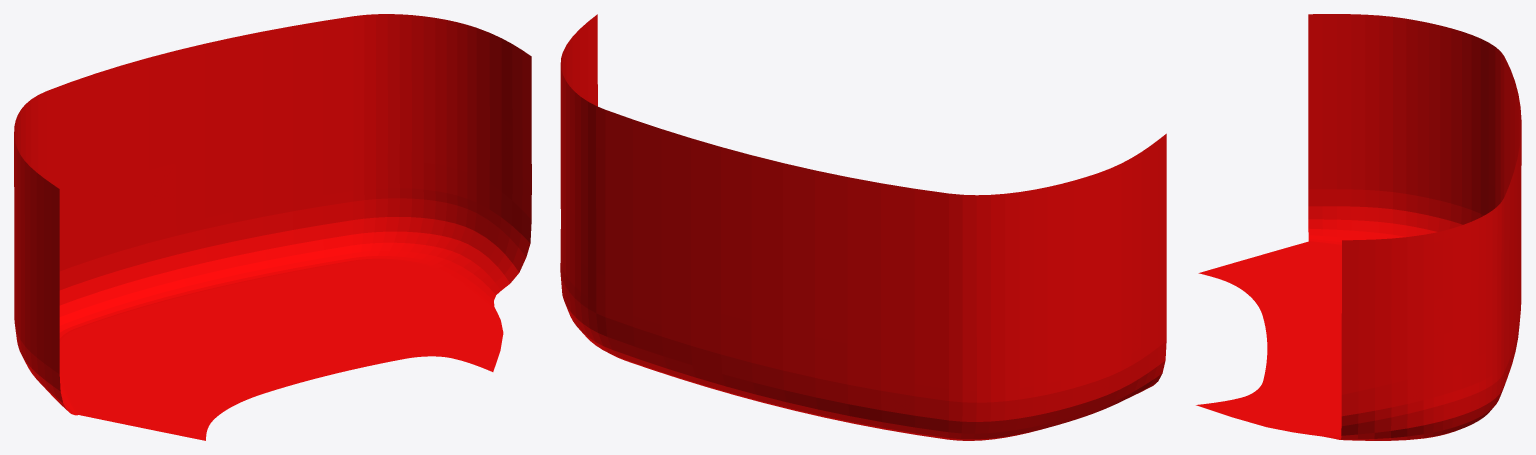
Rendered from wall_part2.FBX.
3 renders of one model, left to right at view 1: azimuth 30°, elevation 25°; view 2: azimuth 150°, elevation 25°; view 3: azimuth 270°, elevation 25°, orthographic. The views are drawn at different scales.
Parts seen in each view (by area): view 1: Object001; view 2: Object001; view 3: Object001.
Boxes of the visible parts, bbox=[...] form: Object001: bbox=[14, 14, 531, 440]; Object001: bbox=[560, 14, 1166, 440]; Object001: bbox=[1196, 14, 1521, 440].
Size of the model in its own units: 814 by 366 by 496.
